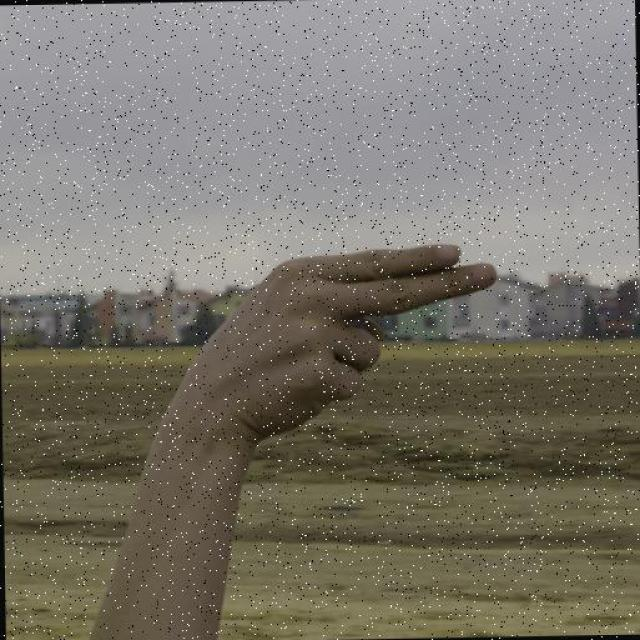H: (161, 240, 506, 445)
